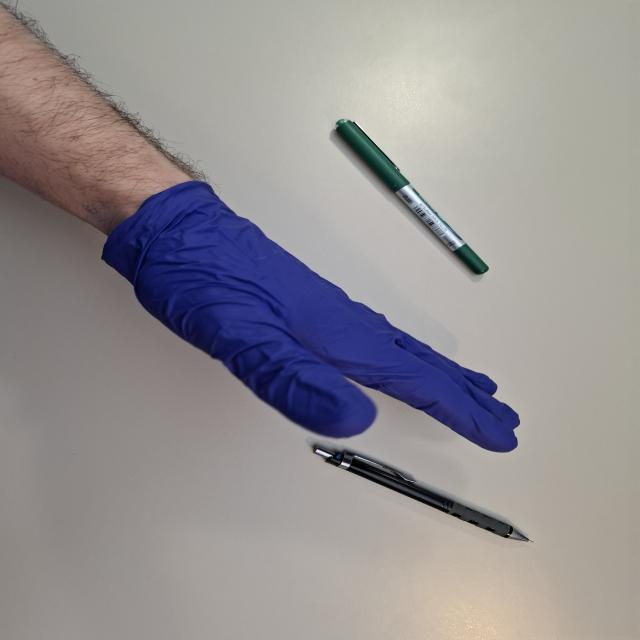glove_on: (93, 180, 525, 452)
